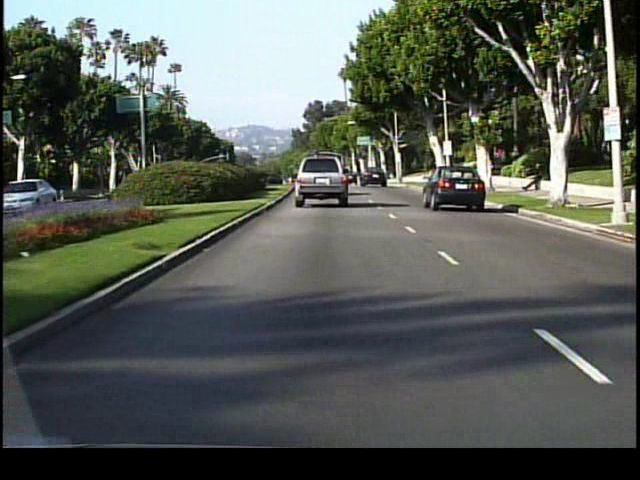person: (523, 159, 546, 197)
